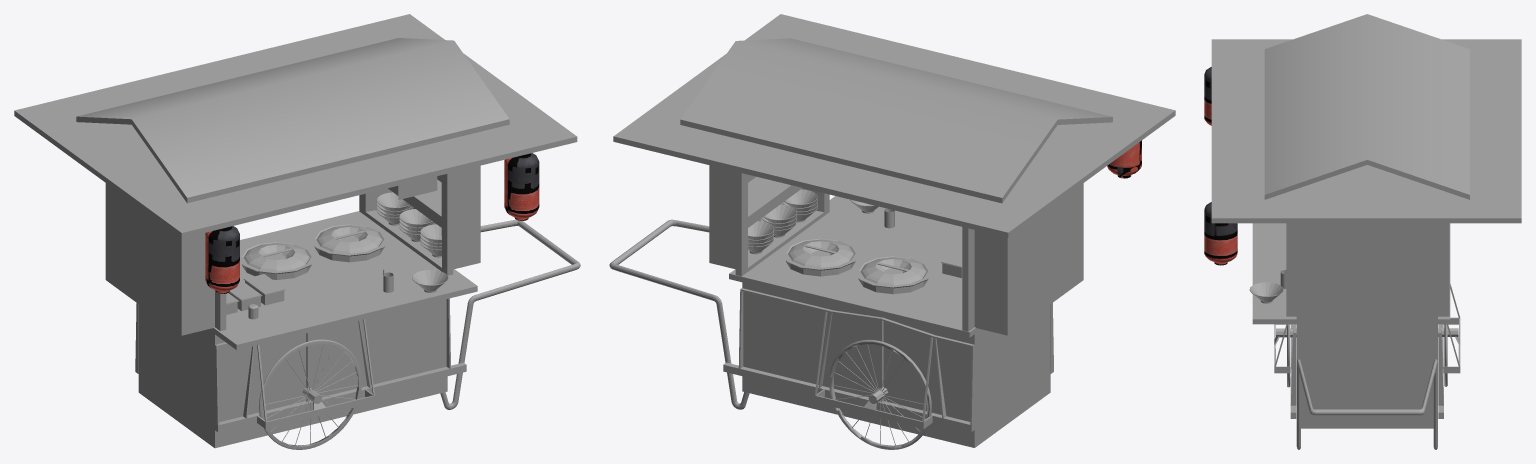
Rendered from yatai.fbx.
3 views of the same model, side by side, from view 1: azimuth 30°, elevation 25°; view 2: azimuth 150°, elevation 25°; view 3: azimuth 270°, elevation 25° (orthographic). The views are drawn at different scales.
Visible parts, largest first — view 1: hontai, yane1, yane, pCube46, polySurface15, taiya, donburi, zundounabe, zundounabe1, pCylinder33, tyoutin, tyoutin1 (+4 smaller); view 2: hontai, yane1, yane, pCube46, polySurface15, taiya1, zundounabe1, zundounabe, donburi, pCylinder33, polySurface16, tyoutin1; view 3: yane1, hontai, yane, pCube46, pCylinder33, tyoutin, polySurface15, polySurface16, donburi, tyoutin1, taiya, taiya1.
Part boxes in pixels (x1,y1,x2,y2): hontai: (105, 165, 480, 448); yane1: (76, 38, 509, 203); yane: (14, 14, 577, 238); pCube46: (208, 211, 477, 350); polySurface15: (135, 298, 466, 431); taiya: (259, 339, 361, 449); donburi: (376, 192, 448, 292); zundounabe: (310, 222, 388, 262); zundounabe1: (240, 240, 315, 279); pCylinder33: (440, 219, 580, 409); tyoutin: (504, 153, 539, 220); tyoutin1: (205, 226, 239, 293); hontai: (709, 165, 1083, 447); yane1: (680, 38, 1112, 203); yane: (613, 14, 1175, 237); pCube46: (729, 196, 980, 337); polySurface15: (723, 288, 1053, 431); taiya1: (829, 339, 931, 449); zundounabe1: (854, 254, 932, 294); zundounabe: (782, 236, 859, 276); donburi: (748, 189, 878, 254); pCylinder33: (609, 219, 749, 409); polySurface16: (814, 311, 933, 428); tyoutin1: (1107, 140, 1141, 178); yane1: (1264, 14, 1469, 199); hontai: (1286, 223, 1449, 428); yane: (1211, 39, 1521, 223); pCube46: (1252, 223, 1450, 324); pCylinder33: (1296, 359, 1437, 449); tyoutin: (1204, 202, 1237, 265); polySurface15: (1290, 324, 1443, 418); polySurface16: (1274, 284, 1460, 373); donburi: (1249, 282, 1283, 303); tyoutin1: (1204, 67, 1211, 125); taiya: (1276, 324, 1296, 387); taiya1: (1438, 324, 1458, 386).
Bounding box in the file's own units: 2.88 × 2.01 × 1.89.
